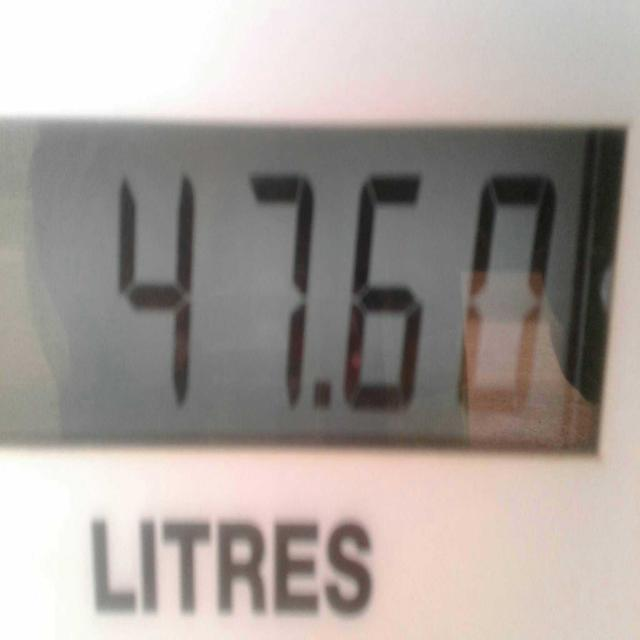.: (312, 390, 329, 416)
0: (459, 172, 557, 406)
4: (117, 175, 198, 400)
6: (340, 171, 422, 402)
7: (248, 173, 312, 401)
